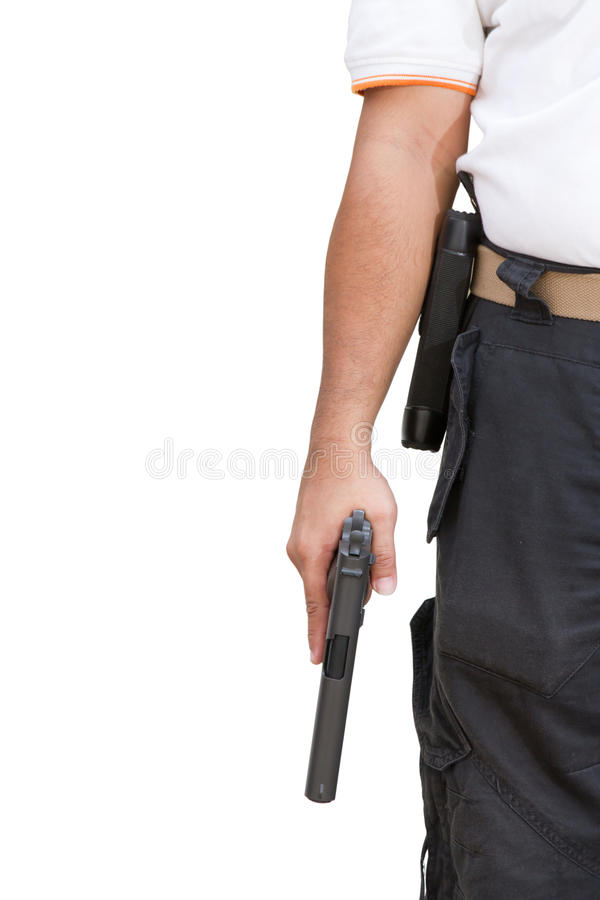gun: (262, 442, 412, 849)
